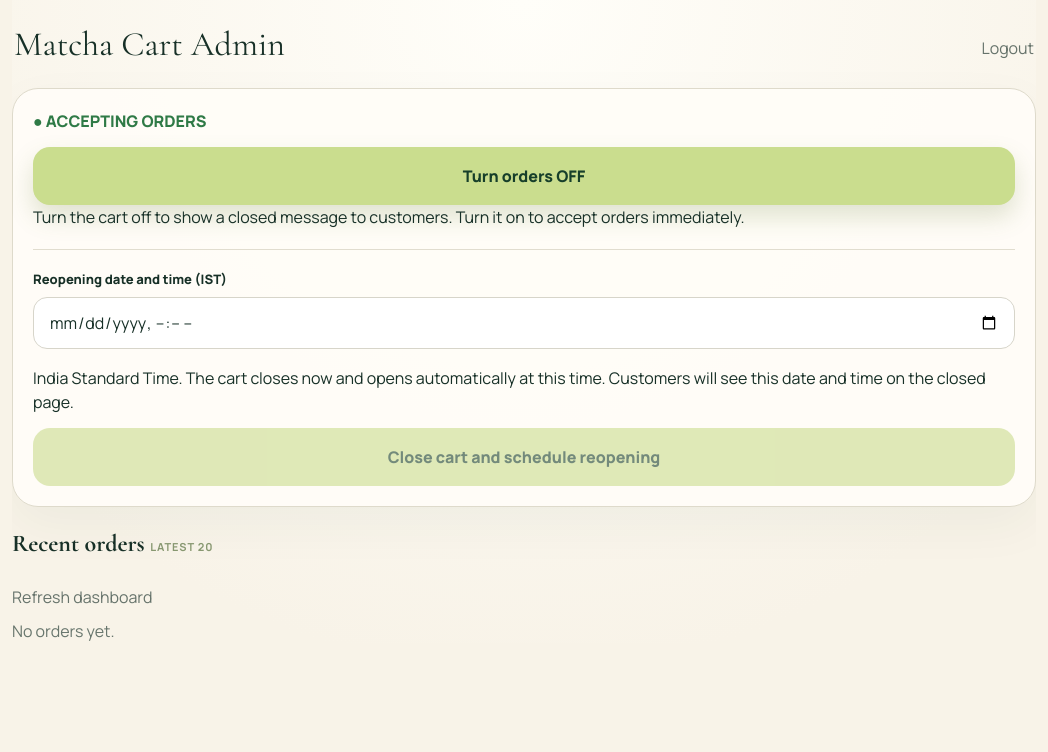
admin dashboard › closes the cart with a reopening time entered in IST
Check: the button "Turn orders OFF" is shown, box top-left (33, 147), bottom-right (1015, 205)
In the field labelled "Reopening date and time (IST)": (524, 322) top-left (33, 296), bottom-right (1015, 348), type "2099-09-03T13:00"
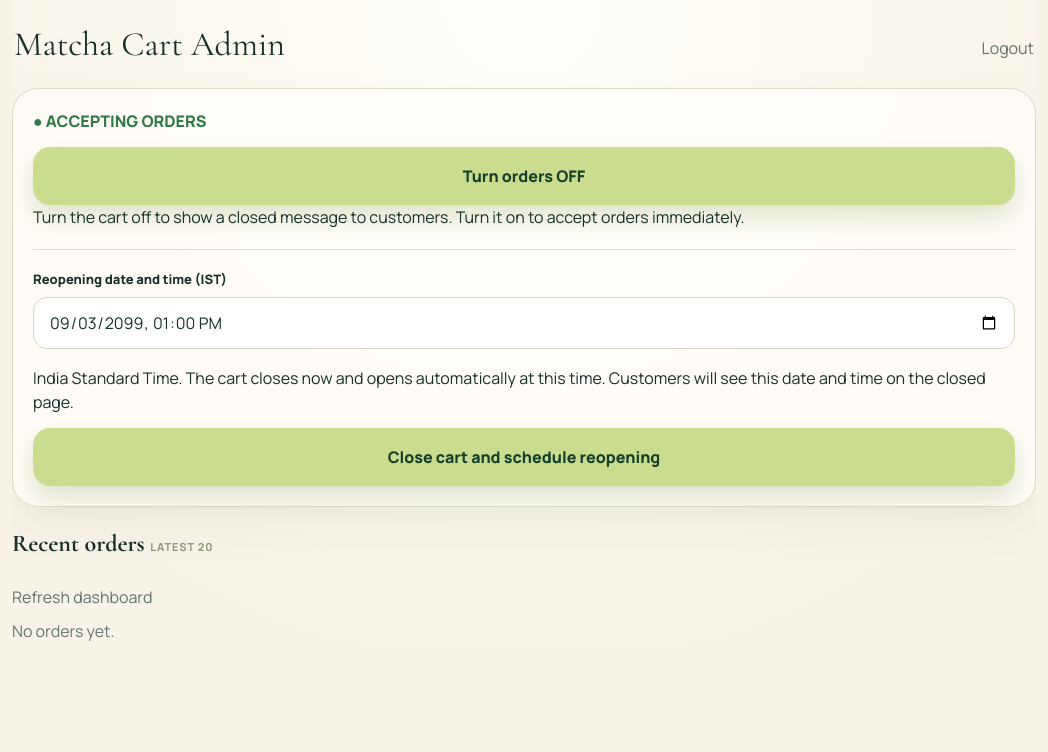
Click the button "Close cart and schedule reopening": (524, 456) top-left (33, 428), bottom-right (1015, 486)
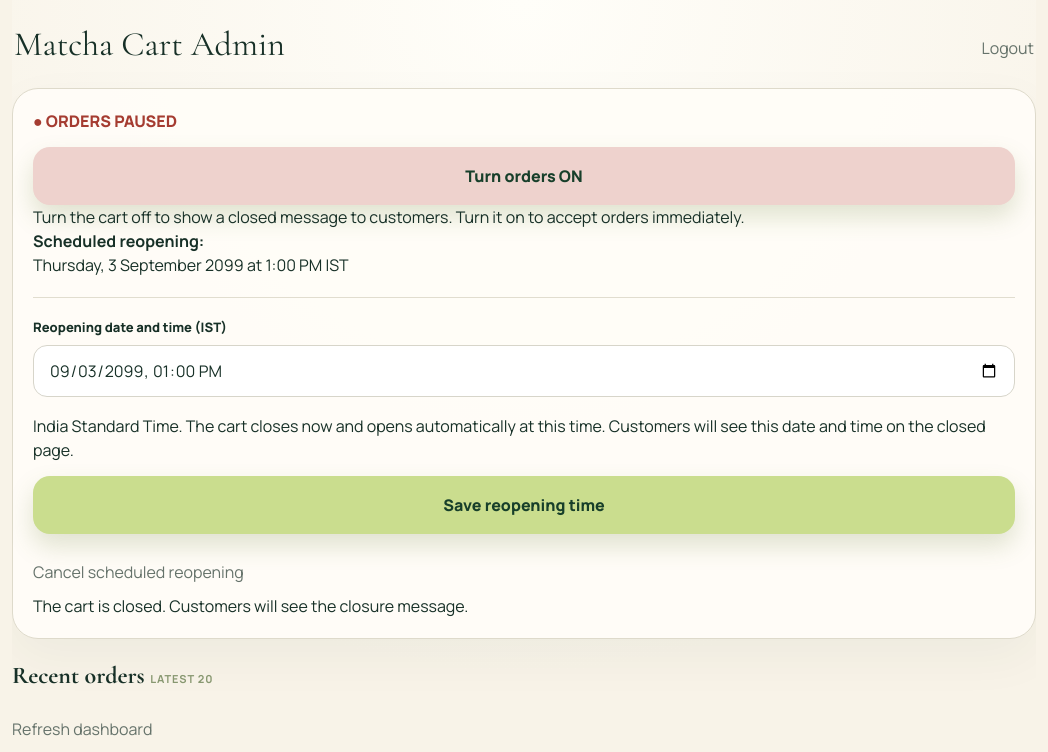
Check: the button "Turn orders ON" is enabled, box top-left (33, 147), bottom-right (1015, 205)
Check: the text "Scheduled reopening:" is shown, box top-left (33, 230), bottom-right (204, 252)
